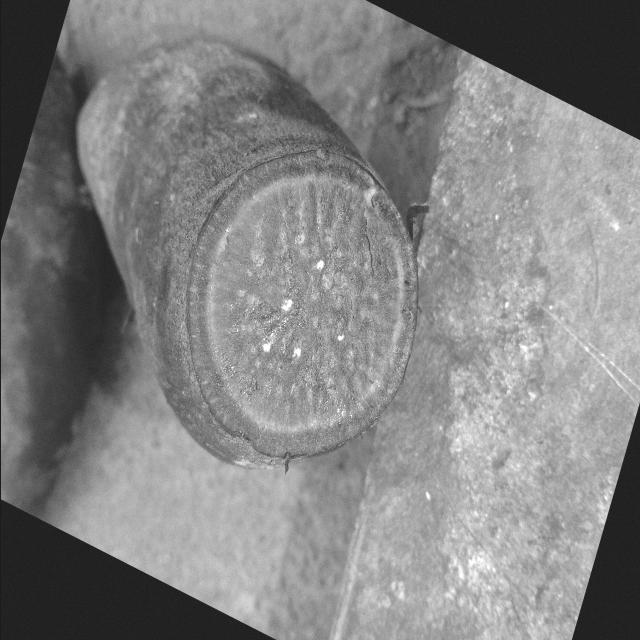Healthy Sweet Potato: (186, 152, 416, 458)
